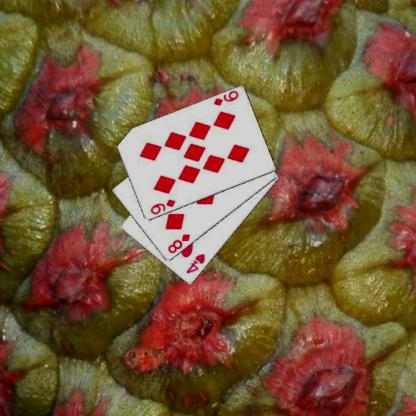4H: (183, 252, 206, 275)
8D: (165, 232, 191, 255)
9D: (211, 88, 240, 107), (148, 197, 176, 216)
